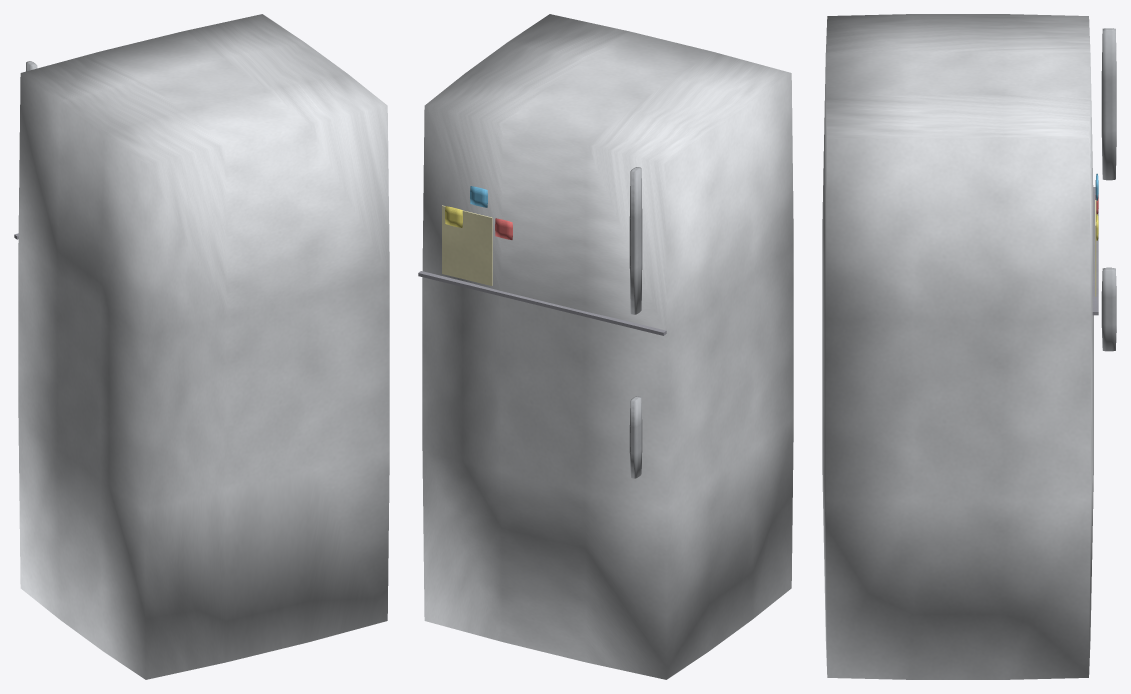
File: fridge.glb
The picture shows the model from 3 angles, left to right: view 1: azimuth 30°, elevation 25°; view 2: azimuth 150°, elevation 25°; view 3: azimuth 270°, elevation 25°; orthographic projection. The views are drawn at different scales.
Parts seen in each view (by area): view 1: fridge_body; view 2: fridge_body; view 3: fridge_body.
Boxes of the visible parts, x1=… form: fridge_body: x1=14, y1=14, x2=389, y2=679; fridge_body: x1=418, y1=14, x2=793, y2=679; fridge_body: x1=822, y1=14, x2=1116, y2=679.
Bounding box in the file's own units: 1 × 2 × 0.975.
Materials: 7 (7 with a texture image).
